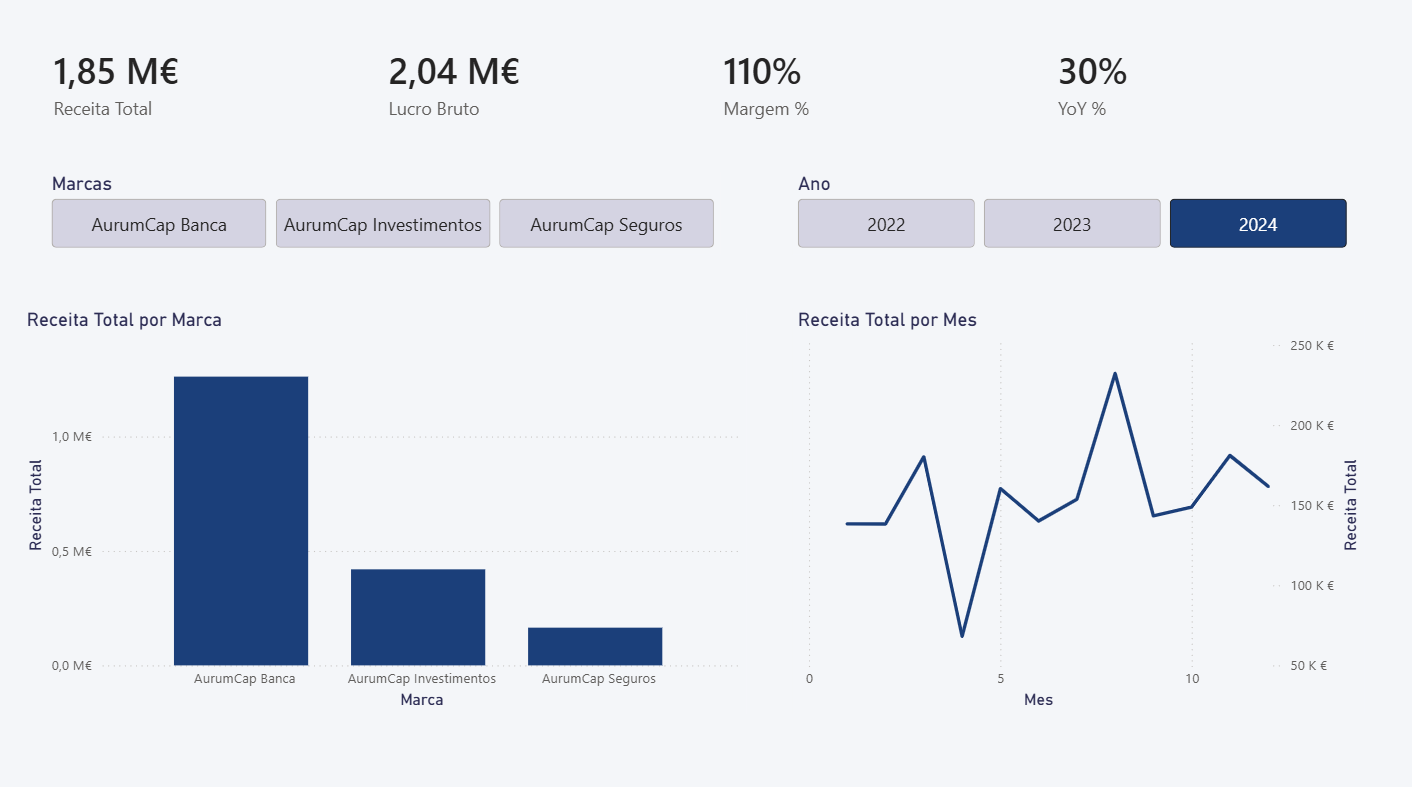

The page's visual inventory and layout, read from the dashboard file:
{"tool":"powerbi","page":{"name":"Visão geral executiva","canvas":[1280,720],"ordinal":0},"visuals":[{"type":"cardVisual","fields":{"Data":["Calendário.Receita Total","Calendário.Lucro Bruto","Calendário.Margem %","Calendário.YoY %"]},"box":[23.3,19.2,1230.9,124.9],"z":0},{"type":"columnChart","fields":{"Category":["marcas.nome"],"Y":["Calendário.Receita Total"]},"box":[23.3,284,651.8,365],"z":1000},{"type":"advancedSlicerVisual","fields":{"Values":["Calendário.Ano"]},"box":[716.9,161.8,505.6,74.2],"z":2000},{"type":"lineChart","fields":{"Y2":["Calendário.Receita Total"],"Category":["Calendário.Mes"]},"box":[716.3,284,514.6,365],"z":3000},{"type":"advancedSlicerVisual","fields":{"Values":["marcas.nome"]},"box":[46.1,161.8,606.7,74.2],"z":4000}]}

Visuals, with their boxes in screenshot pixels (x1, y1, x2, y2), scaled from the page's 1280x720 canvas onto the 1412x787 screenshot:
cardVisual - Calendário.Receita Total x Calendário.Lucro Bruto: l=26, t=21, r=1384, b=158
columnChart - marcas.nome x Calendário.Receita Total: l=26, t=310, r=745, b=709
advancedSlicerVisual - Calendário.Ano: l=791, t=177, r=1349, b=258
lineChart - Calendário.Receita Total x Calendário.Mes: l=790, t=310, r=1358, b=709
advancedSlicerVisual - marcas.nome: l=51, t=177, r=720, b=258
